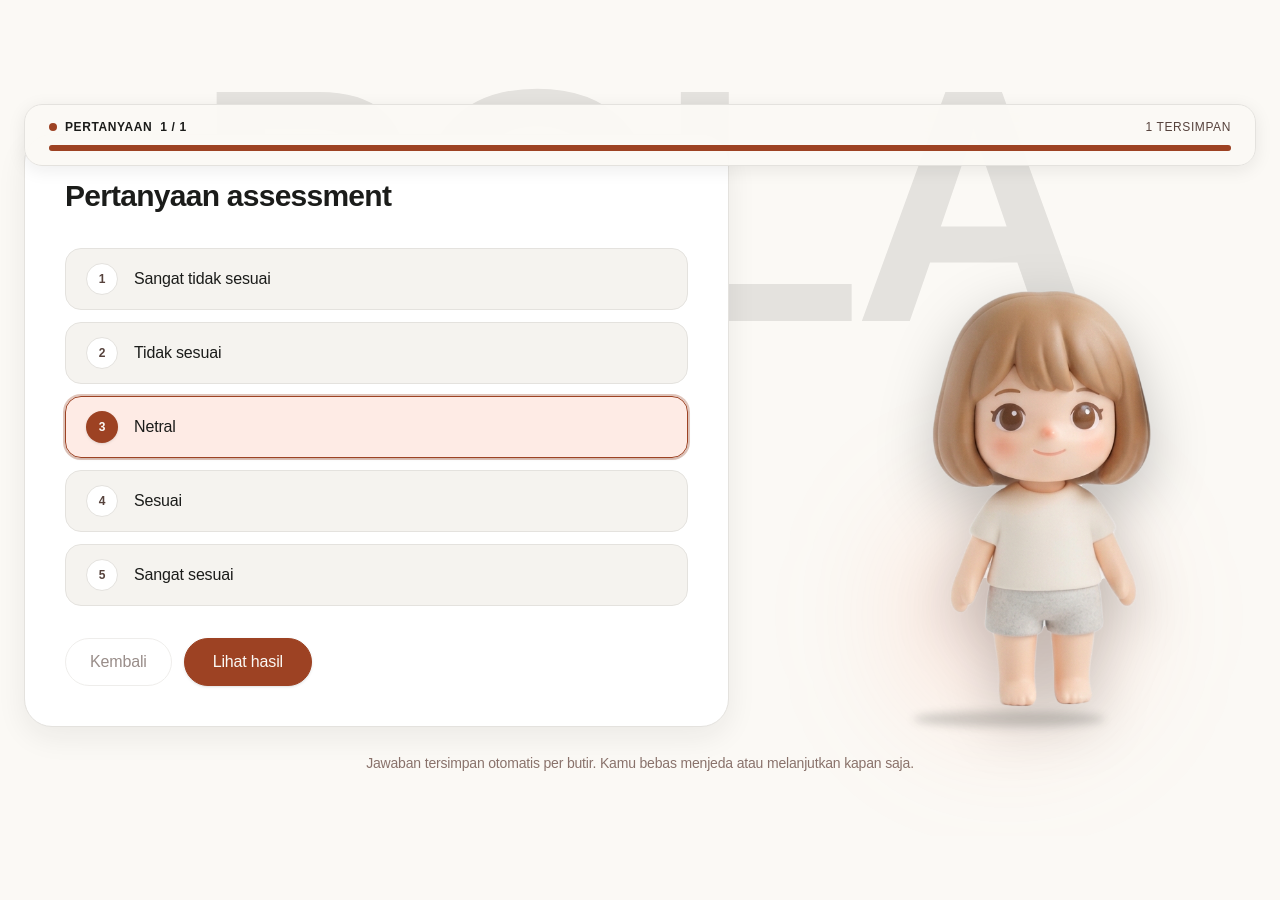
Test: TestRunner response timing › memblokir completion saat sesi authoritative belum lengkap
The image size is (1280, 900).
What coordinates should you click on to do the following:
click the button "Lihat hasil"
I would click on:
 (248, 662)
Its box is [184,638,312,686].
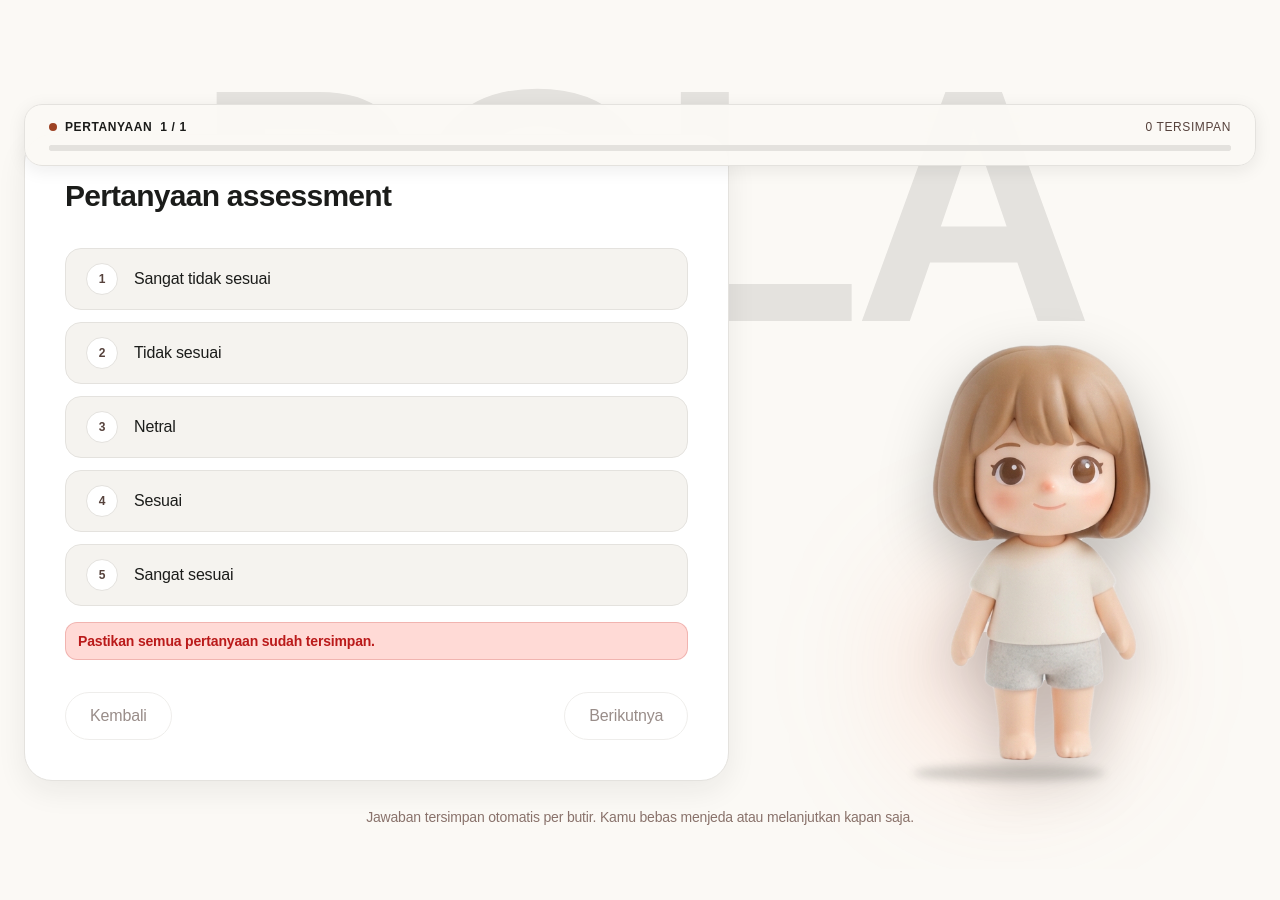
Check: the message "Pastikan semua pertanyaan sudah tersimpan." is shown, box [65,622,688,660]
Check: the message reads "Pastikan semua pertanyaan sudah tersimpan.", box [78,633,375,649]
